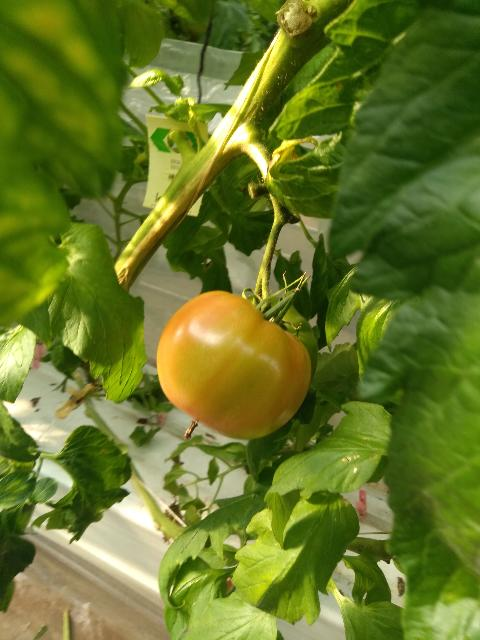b_green: (243, 295, 318, 383)
b_half_ripened: (156, 290, 313, 440)
